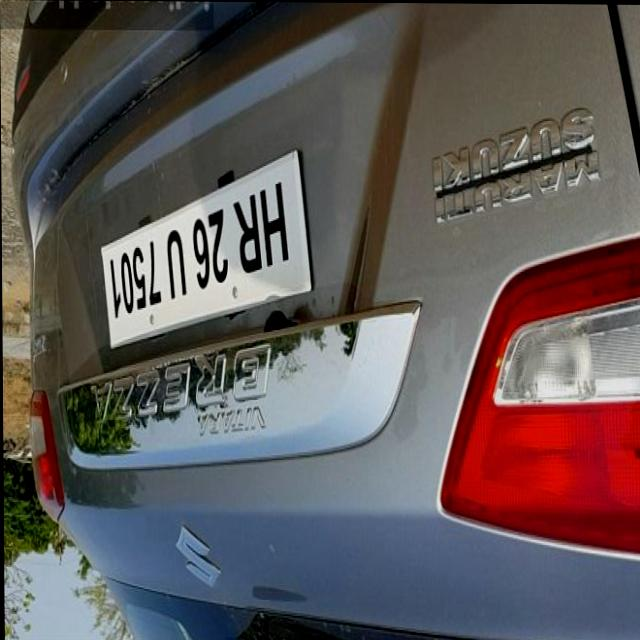0: (118, 251, 136, 310)
1: (105, 258, 122, 321)
2: (206, 211, 229, 279)
5: (131, 244, 149, 308)
6: (189, 219, 209, 287)
7: (144, 240, 163, 303)
h: (256, 181, 291, 268)
r: (230, 198, 264, 274)
u: (164, 230, 187, 299)
